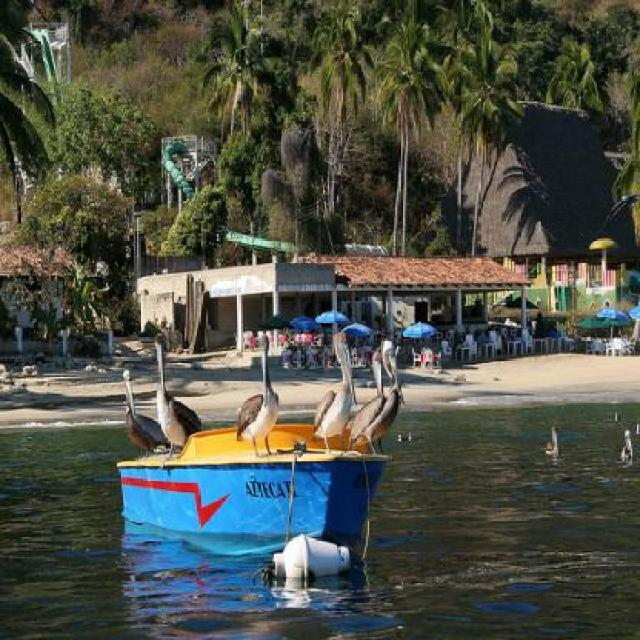ship: (116, 423, 387, 554)
